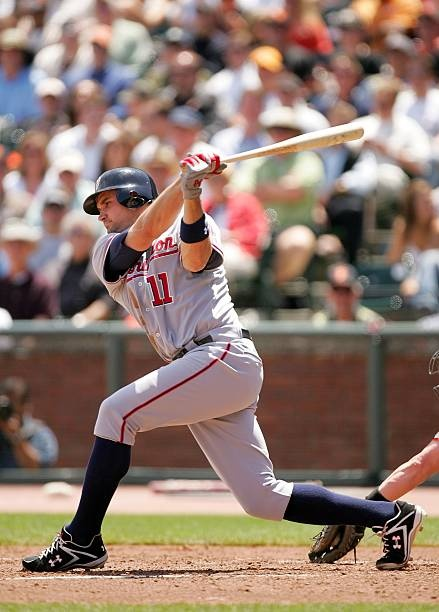bita: (221, 125, 372, 163)
